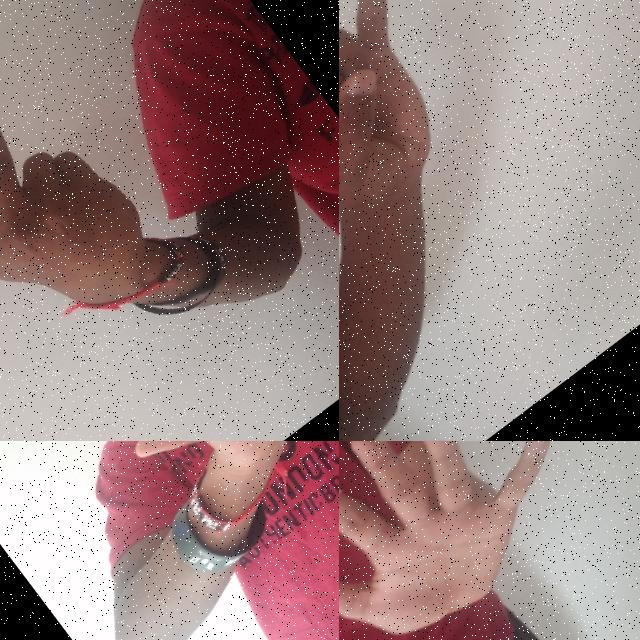Corna: (339, 0, 528, 295)
Middle Finger: (0, 42, 184, 368)
Moutza: (339, 441, 624, 640), (42, 441, 339, 501)
